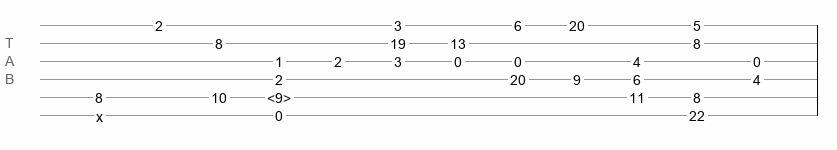0: (275, 108, 283, 118), (454, 54, 462, 64), (514, 54, 522, 64), (753, 54, 761, 64)
1: (275, 54, 283, 64)
10: (211, 90, 227, 100)
11: (629, 90, 645, 100)
13: (450, 36, 466, 46)
19: (390, 36, 406, 46)
2: (155, 18, 163, 28), (275, 72, 283, 82), (334, 54, 342, 64)
20: (510, 72, 526, 82), (569, 18, 585, 28)
22: (689, 108, 705, 118)
3: (394, 54, 402, 64), (394, 18, 402, 28)
4: (633, 54, 641, 64), (753, 72, 761, 82)
5: (693, 18, 701, 28)
6: (514, 18, 522, 28), (633, 72, 641, 82)
8: (95, 90, 103, 100), (215, 36, 223, 46), (693, 36, 701, 46), (693, 90, 701, 100)
9: (573, 72, 581, 82)
harmonic: (267, 90, 291, 100)
x: (96, 109, 103, 117)
